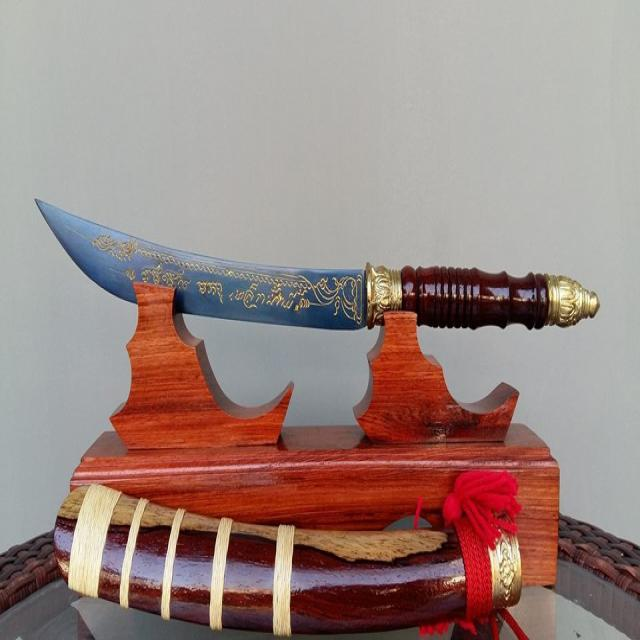long sword: (31, 188, 602, 348)
